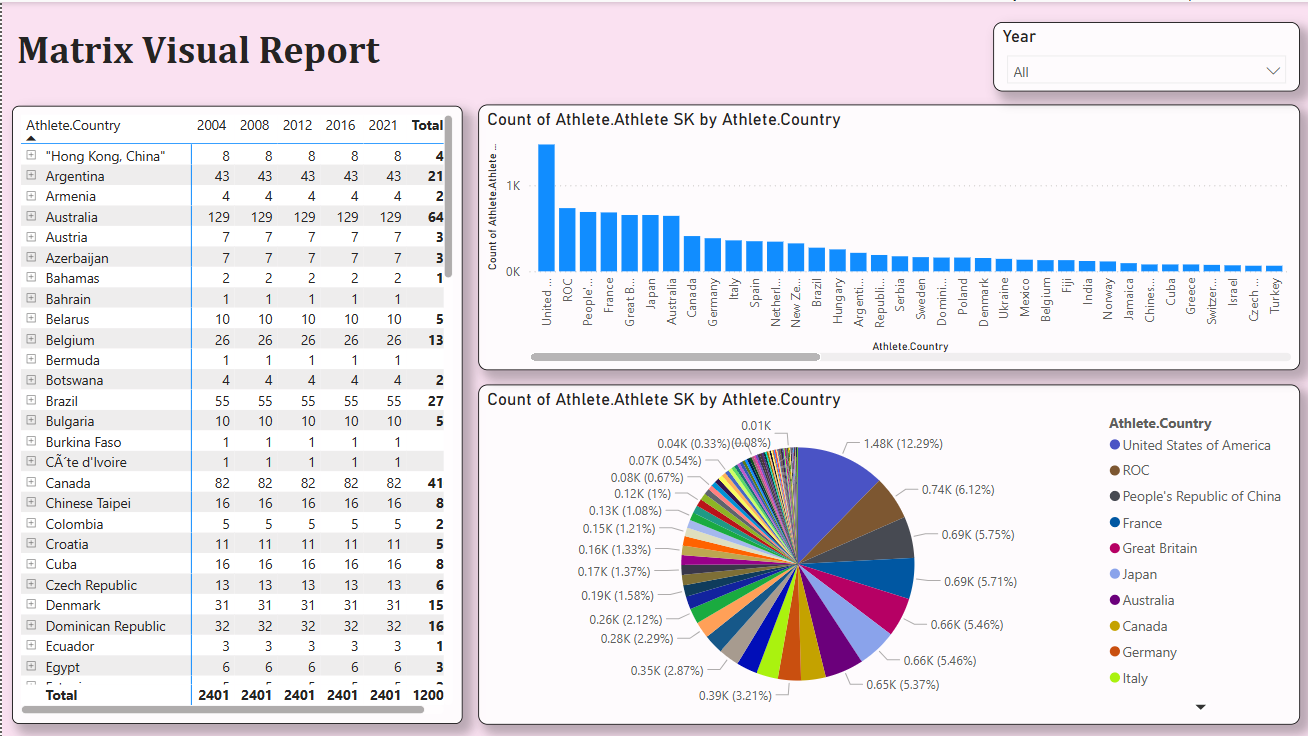

What the dashboard file says about the page in this screenshot:
{"tool":"powerbi","page":{"name":"Matrix Visual Report","canvas":[1280,720],"ordinal":0},"visuals":[{"type":"pivotTable","fields":{"Rows":["Cube_Olympic DW.Athlete.Country","Cube_Olympic DW.Athlete.Athlete SK"],"Columns":["Cube_Olympic DW.Dim Date.Year"],"Values":["CountNonNull(Cube_Olympic DW.Medals.Medal Type)"]},"box":[190.3,153.3,827.7,454.5],"z":0}]}

Visuals, with their boxes in screenshot pixels (x1, y1, x2, y2), scaled from the page's 1280x720 canvas onto the 1308x736 screenshot:
pivotTable - Cube_Olympic DW.Athlete.Country x Cube_Olympic DW.Athlete.Athlete SK: l=194, t=157, r=1040, b=621
